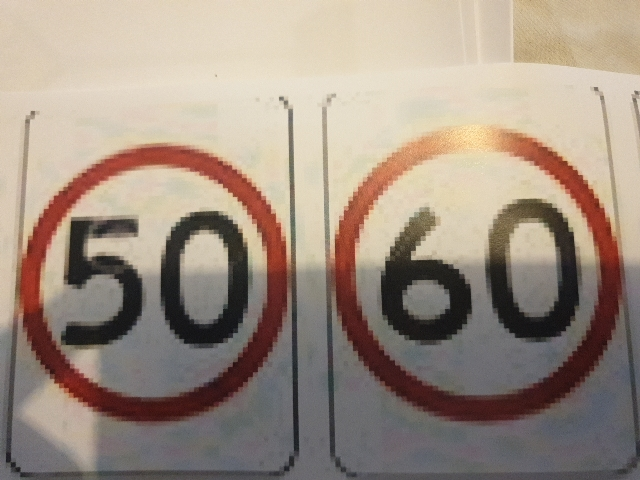sp50: (30, 154, 287, 403)
sp60: (329, 128, 625, 411)
